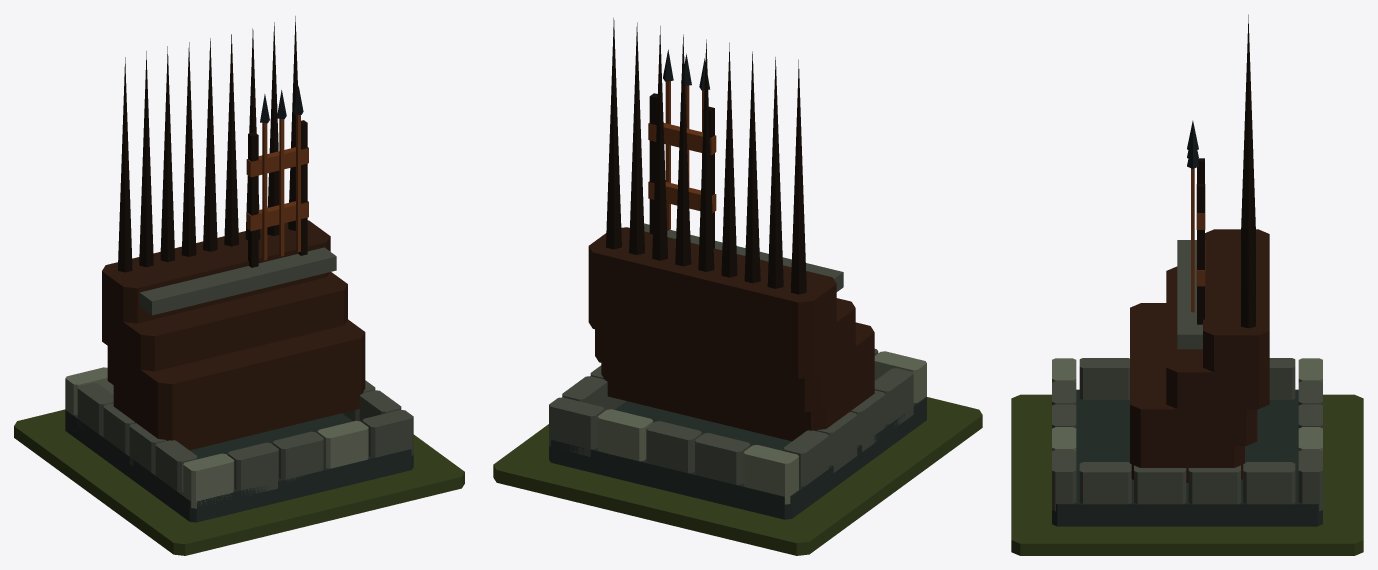
Rendered from rampart_t6.glb.
3 renders of one model, left to right at view 1: azimuth 30°, elevation 25°; view 2: azimuth 150°, elevation 25°; view 3: azimuth 270°, elevation 25°, orthographic. The views are drawn at different scales.
Parts seen in each view (by area): view 1: MMR | rampart | T06 Architecture.001, MMR | rampart | Tier 06 Ground.001; view 2: MMR | rampart | T06 Architecture.001, MMR | rampart | Tier 06 Ground.001; view 3: MMR | rampart | T06 Architecture.001, MMR | rampart | Tier 06 Ground.001.
Part boxes in pixels (box(x1,y1,x2,y2)): MMR | rampart | T06 Architecture.001: box(65, 16, 413, 522); MMR | rampart | Tier 06 Ground.001: box(14, 409, 464, 555); MMR | rampart | T06 Architecture.001: box(549, 18, 926, 519); MMR | rampart | Tier 06 Ground.001: box(493, 397, 982, 555); MMR | rampart | T06 Architecture.001: box(1052, 14, 1322, 526); MMR | rampart | Tier 06 Ground.001: box(1011, 394, 1363, 555).
Bounding box in the file's own units: 1.3 × 1.73 × 1.3.
Materials: 1 (1 with a texture image).
